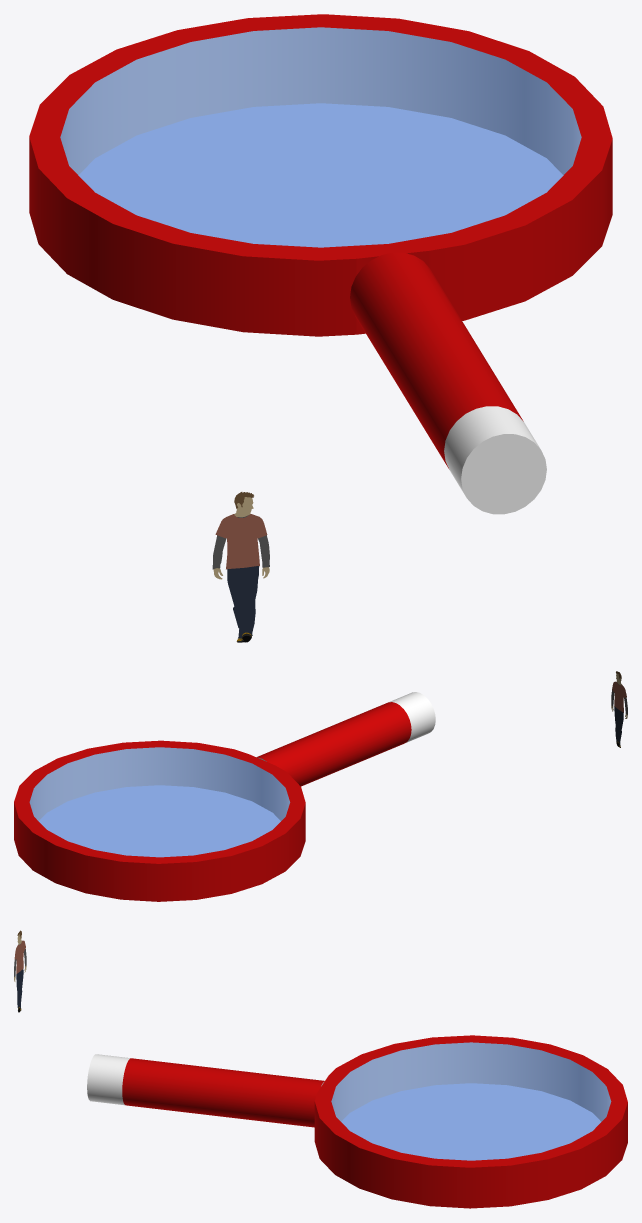
The model's file is Magnifying+glass.fbx.
The picture shows the model from 3 angles, top to bottom: view 1: azimuth 30°, elevation 25°; view 2: azimuth 150°, elevation 25°; view 3: azimuth 270°, elevation 25°; orthographic projection. The views are drawn at different scales.
Visible parts, largest first — view 1: Model, Bryce1; view 2: Model, Bryce1; view 3: Model, Bryce1.
Boxes of the visible parts, bbox=[...] form: Model: bbox=[29, 14, 612, 514]; Bryce1: bbox=[212, 492, 269, 642]; Model: bbox=[14, 692, 435, 901]; Bryce1: bbox=[611, 671, 627, 747]; Model: bbox=[87, 1035, 627, 1208]; Bryce1: bbox=[14, 930, 26, 1012].
Size of the model in its own units: 382 by 72.24 by 488.
